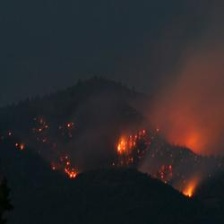fire: (115, 133, 205, 198), (48, 148, 83, 186)
smoke: (162, 65, 224, 118)
